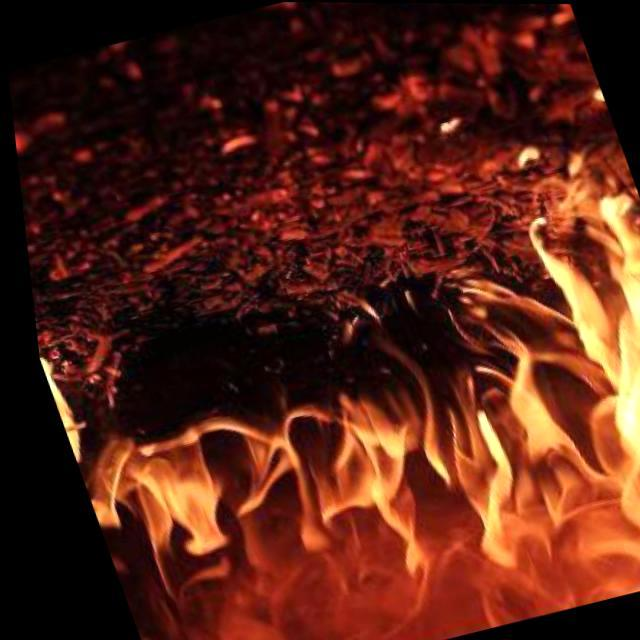fire: (15, 174, 640, 640)
